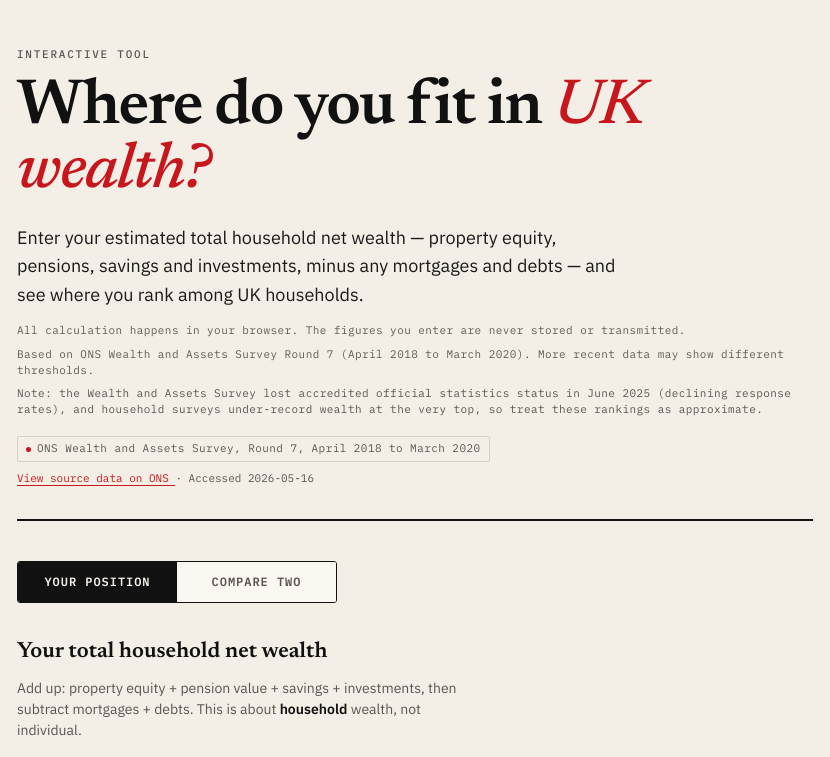
Scenario: WealthCalculator — compare mode results › shows same-decile message when both are in same decile
Click the tab with id "tab-compare" at (256, 582), box [177,562,336,602]
(page scrolled)
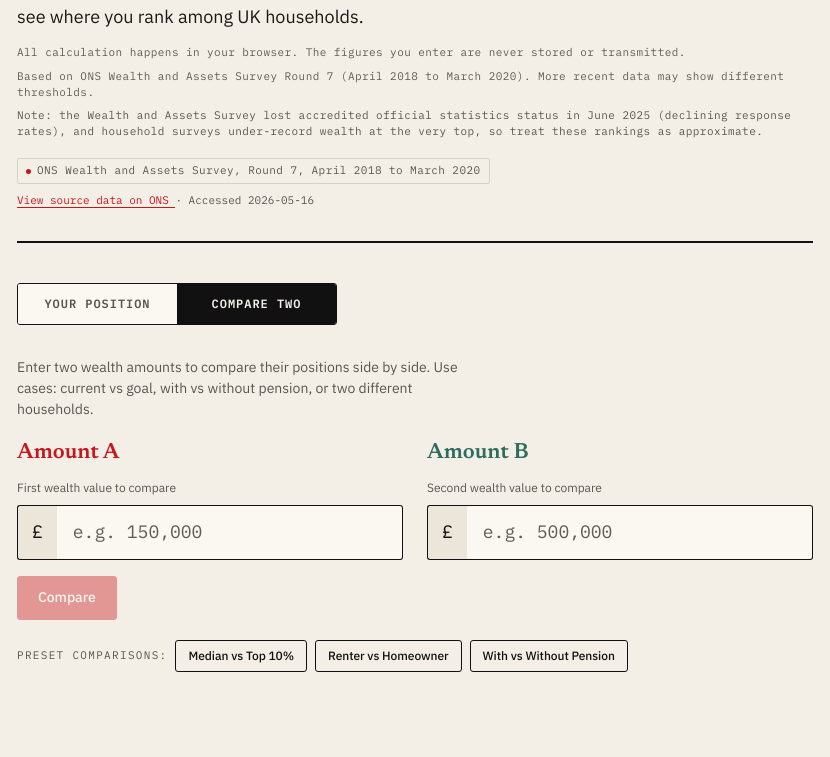
Type "200000" into the field with id "compare-input-a" at (230, 532), box [57,505,403,560]
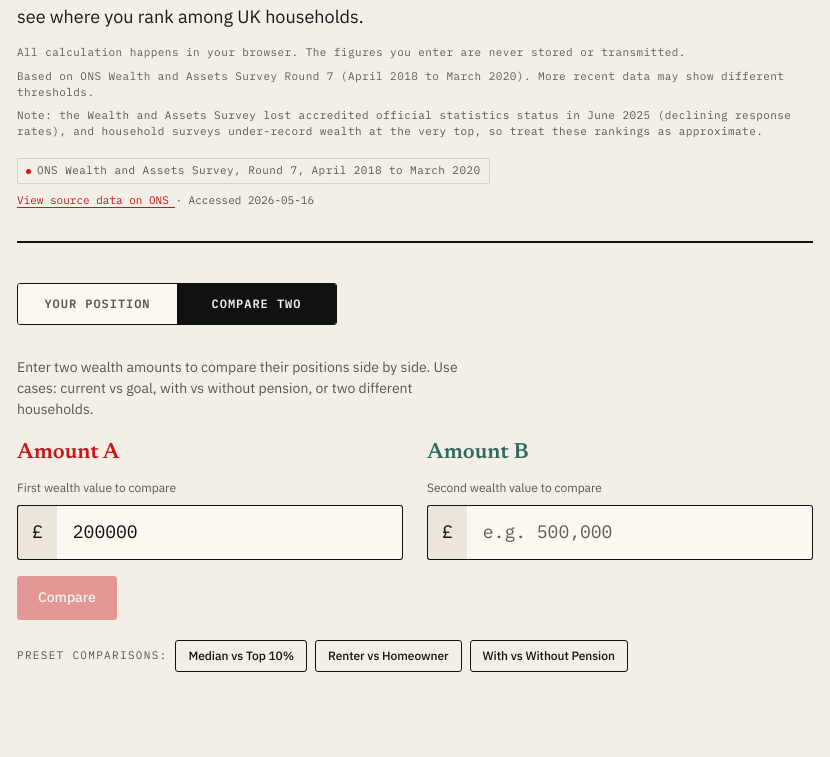
Type "250000" into the field with id "compare-input-b" at (640, 532), box [467,505,813,560]
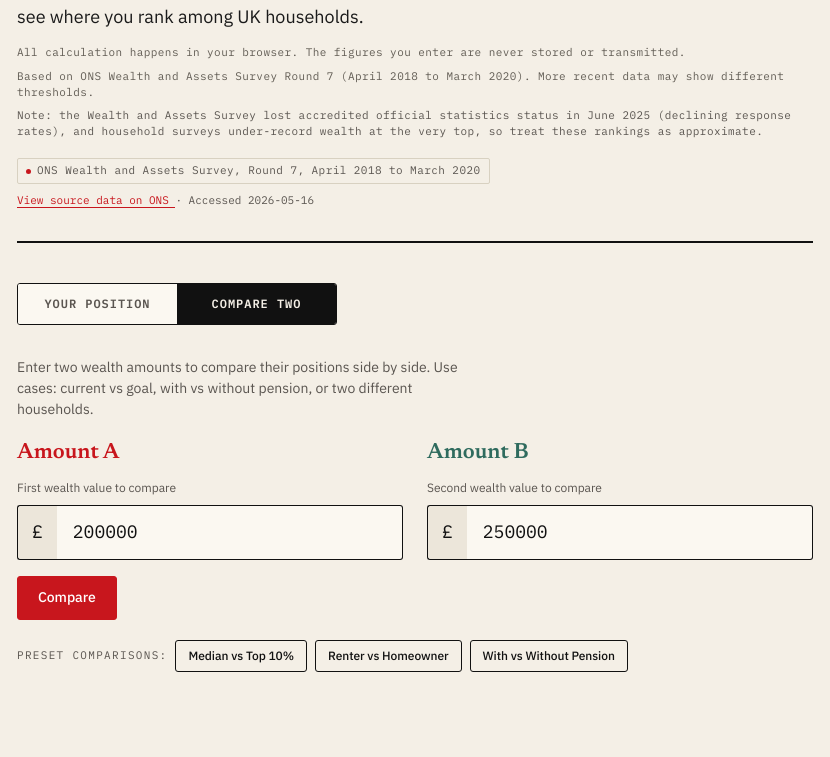
Click the button with class "calc__btn--compare" at (67, 598), box [17,576,117,620]
(page scrolled)
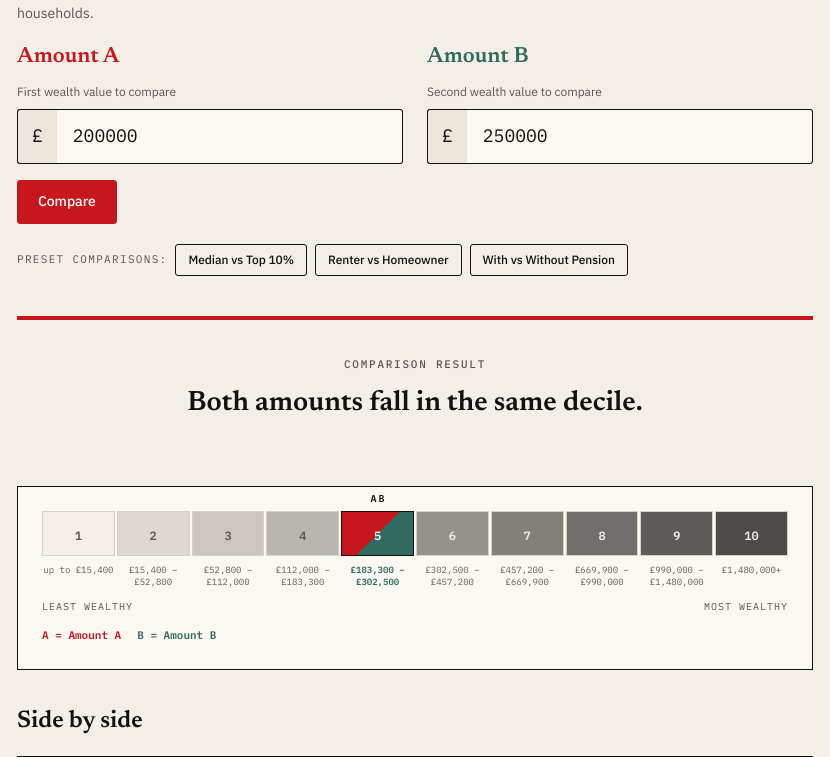
Check: the text with class "calc__compare-summary" shows "same decile", box [187,389,643,417]
